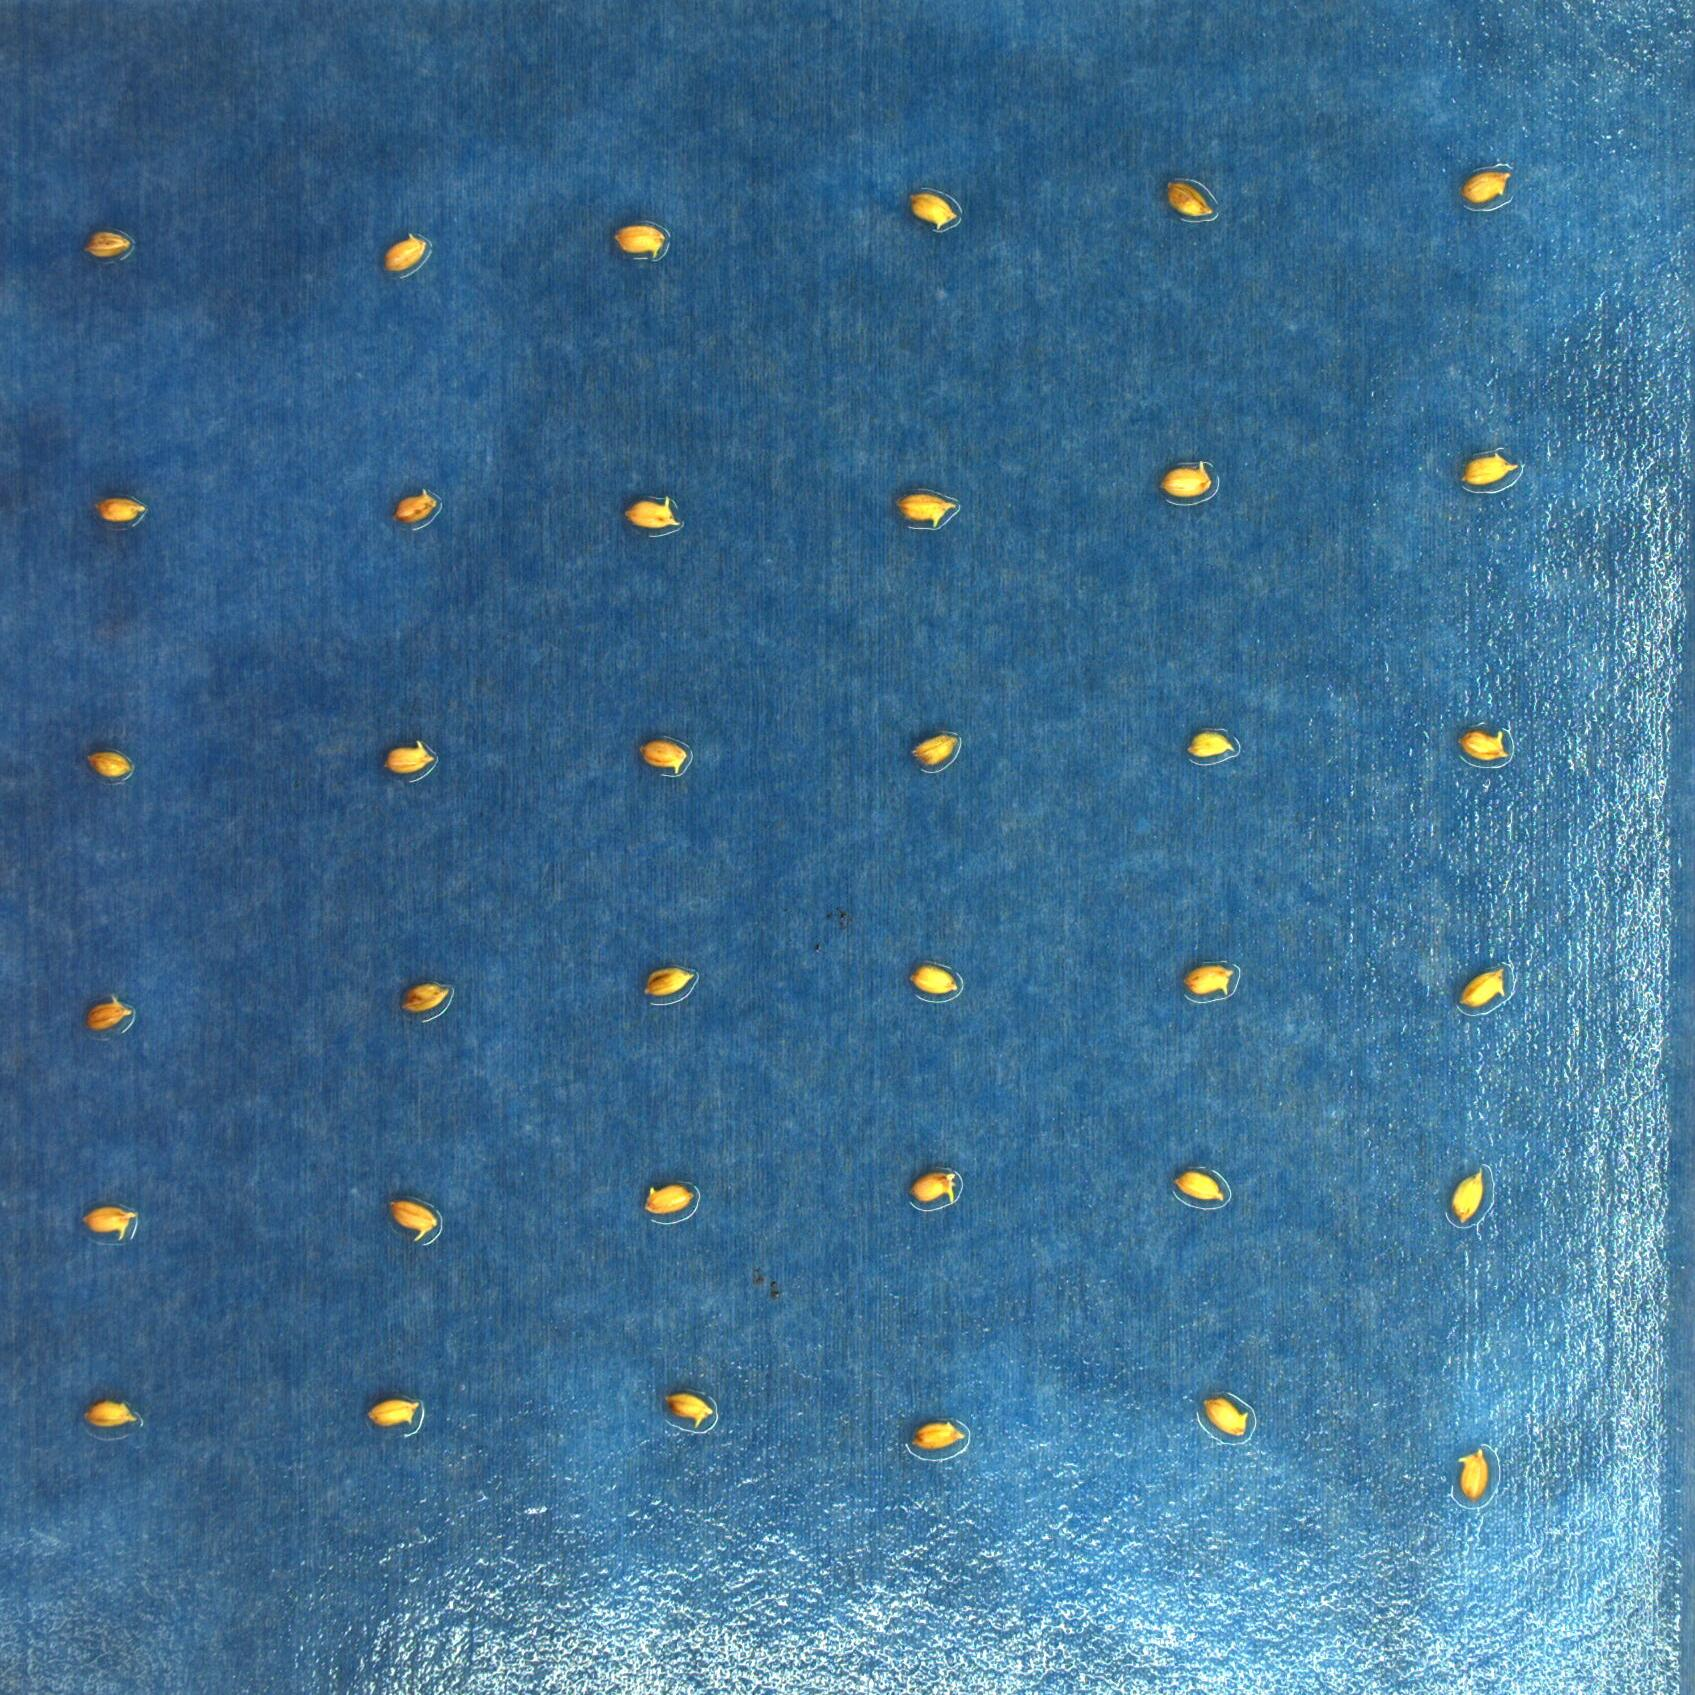not sprout: (1200, 1386, 1256, 1439), (1444, 1166, 1492, 1225), (893, 487, 961, 528), (386, 1194, 438, 1243), (903, 188, 958, 234), (608, 220, 667, 262), (82, 987, 137, 1032), (1180, 726, 1242, 764), (658, 1391, 714, 1430), (386, 739, 438, 781), (640, 1181, 697, 1218), (81, 1397, 141, 1431), (1458, 969, 1510, 1007), (92, 490, 151, 525), (1163, 180, 1214, 219), (1159, 459, 1214, 495), (81, 1205, 137, 1239), (1458, 725, 1510, 761), (1178, 964, 1237, 995), (906, 1420, 965, 1451), (626, 495, 681, 528), (1464, 452, 1520, 484), (1459, 166, 1512, 200), (1173, 1170, 1226, 1205), (908, 1172, 958, 1208), (383, 230, 425, 272), (390, 487, 441, 522), (636, 740, 688, 775), (1453, 1450, 1489, 1498), (646, 962, 695, 997), (75, 231, 133, 259), (911, 962, 964, 993), (84, 745, 130, 778), (911, 731, 958, 764), (369, 1394, 421, 1423), (405, 979, 453, 1010)
